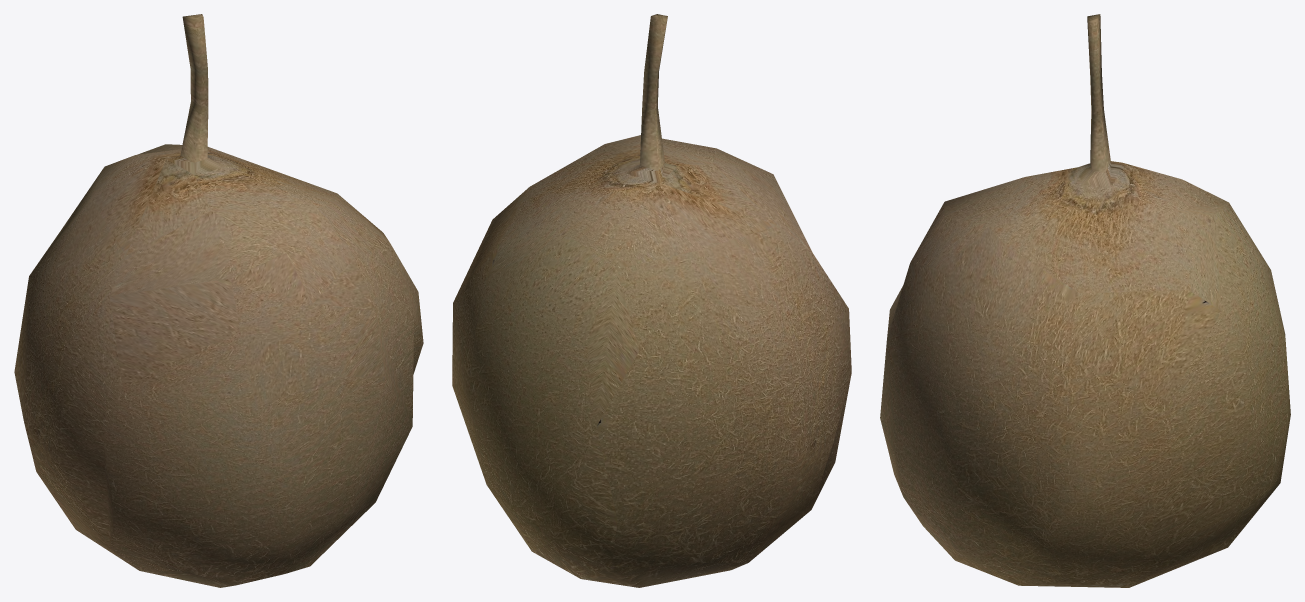
3 renders of one model, left to right at view 1: azimuth 30°, elevation 25°; view 2: azimuth 150°, elevation 25°; view 3: azimuth 270°, elevation 25°, orthographic.
Parts seen in each view (by area): view 1: 43_kiwi; view 2: 43_kiwi; view 3: 43_kiwi.
Part boxes in pixels (bbox=[...]): 43_kiwi: bbox=[14, 14, 423, 587]; 43_kiwi: bbox=[452, 14, 851, 587]; 43_kiwi: bbox=[880, 14, 1290, 587].
Bounding box in the file's own units: 79.62 × 117 × 78.87.
